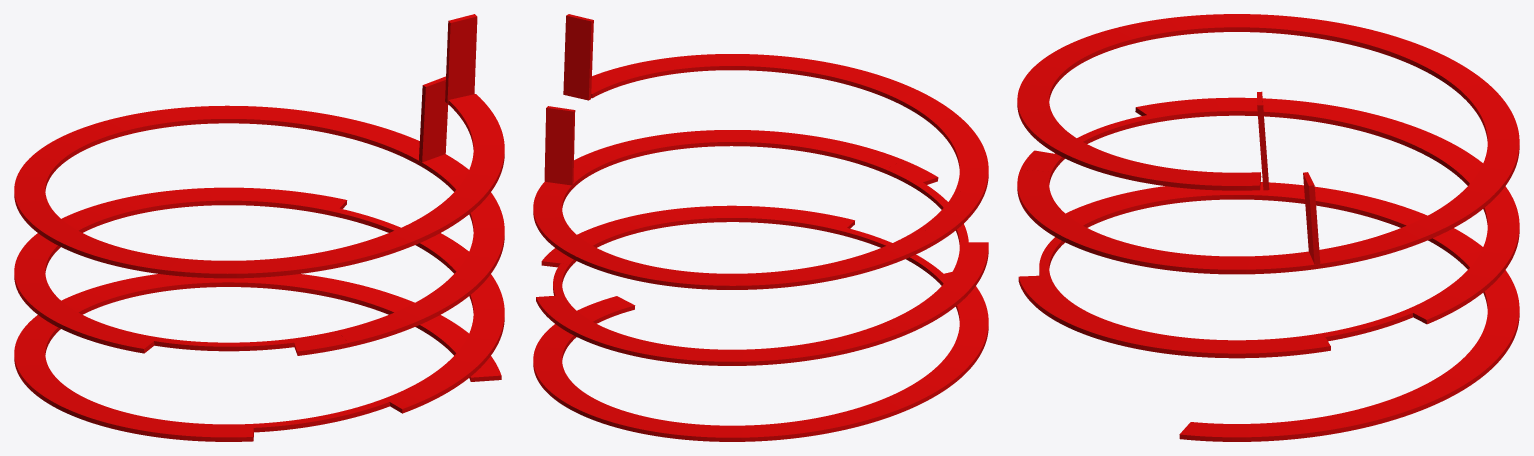
File: Level2-2Collision.fbx
3 views of the same model, side by side, from view 1: azimuth 30°, elevation 25°; view 2: azimuth 150°, elevation 25°; view 3: azimuth 270°, elevation 25° (orthographic). The views are drawn at different scales.
Parts seen in each view (by area): view 1: MiddleFloorCollision409; view 2: MiddleFloorCollision409; view 3: MiddleFloorCollision409.
Boxes of the visible parts, <box> form: MiddleFloorCollision409: <box>14,14,504,441</box>; MiddleFloorCollision409: <box>533,14,988,441</box>; MiddleFloorCollision409: <box>1017,14,1519,441</box>.
Bounding box in the file's own units: 10654 × 7975 × 10650.
